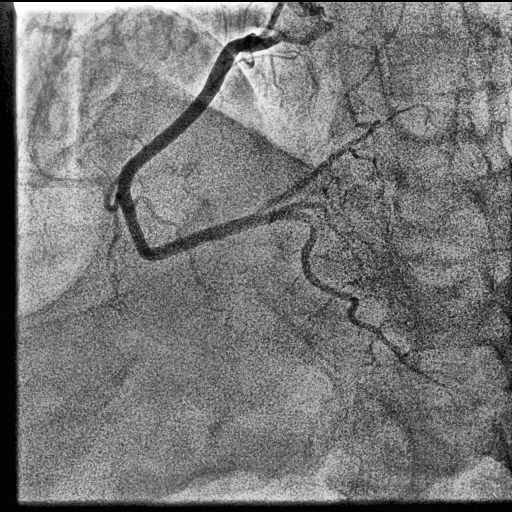pborca: (257, 121, 381, 215)
pda: (265, 209, 446, 387)
rca: (118, 33, 271, 260)
